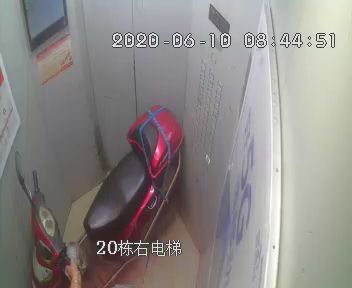Electric-bicycle: (14, 103, 184, 287)
